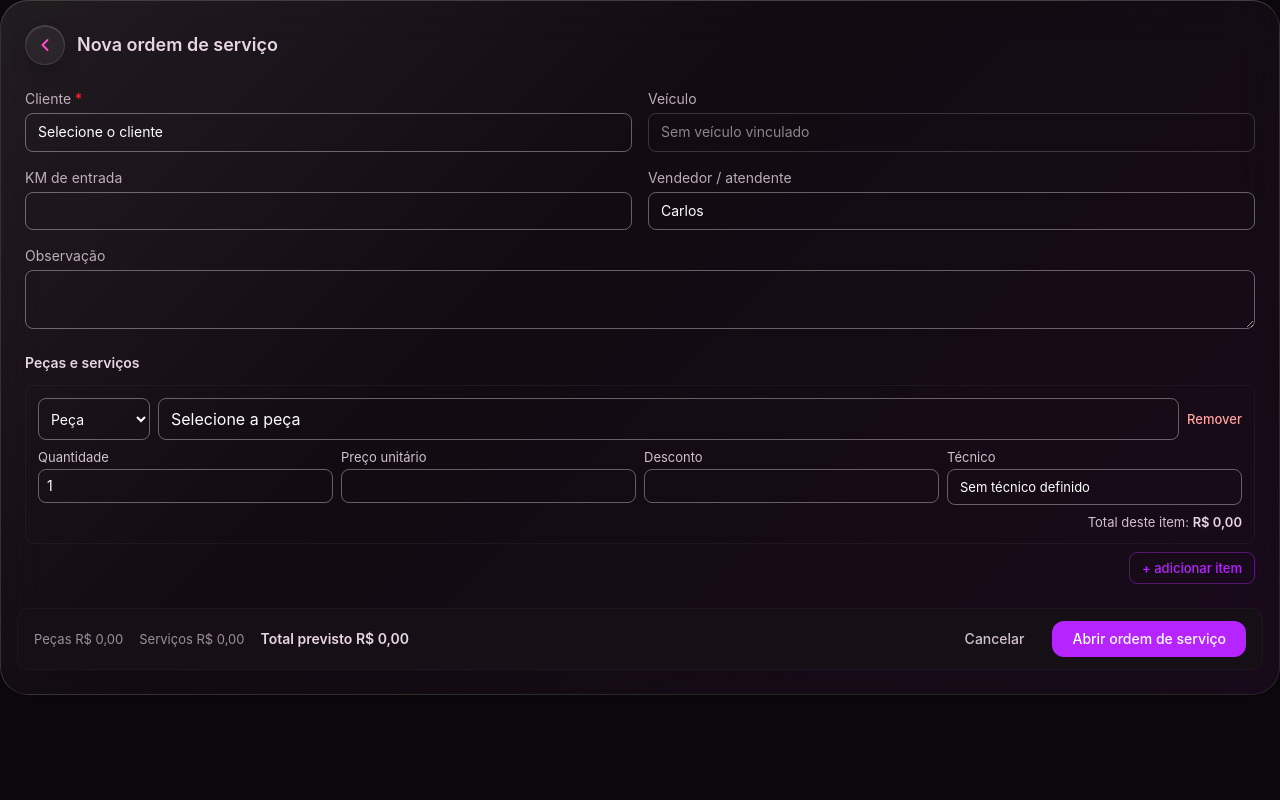
Test case: OrdemServicoForm — lançar item › trocar o tipo pra Serviço troca a lista de escolha, e o preço vem do catálogo
Select "Serviço" in the 4th dropdown at (94, 419), box [38, 398, 150, 440]
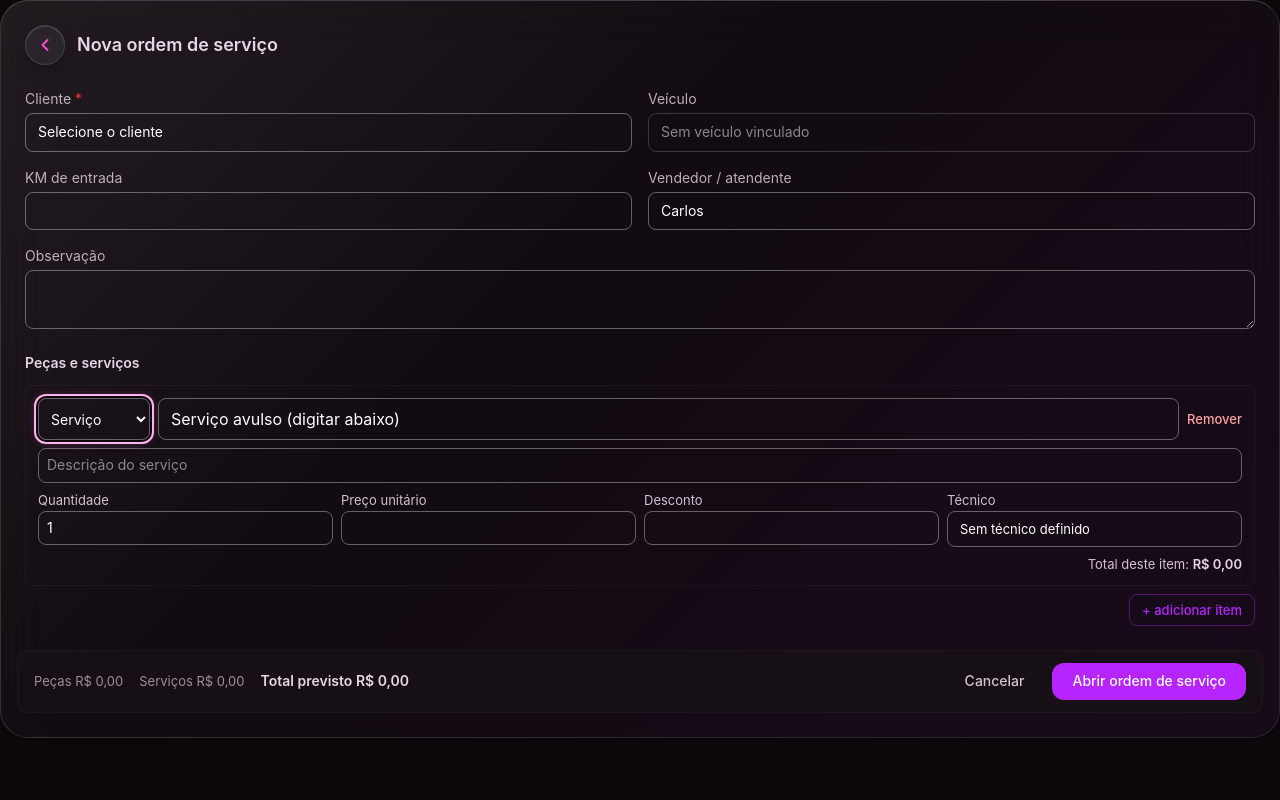
Click the 2nd dropdown showing "Serviço avulso" at (669, 419), box [158, 398, 1179, 440]
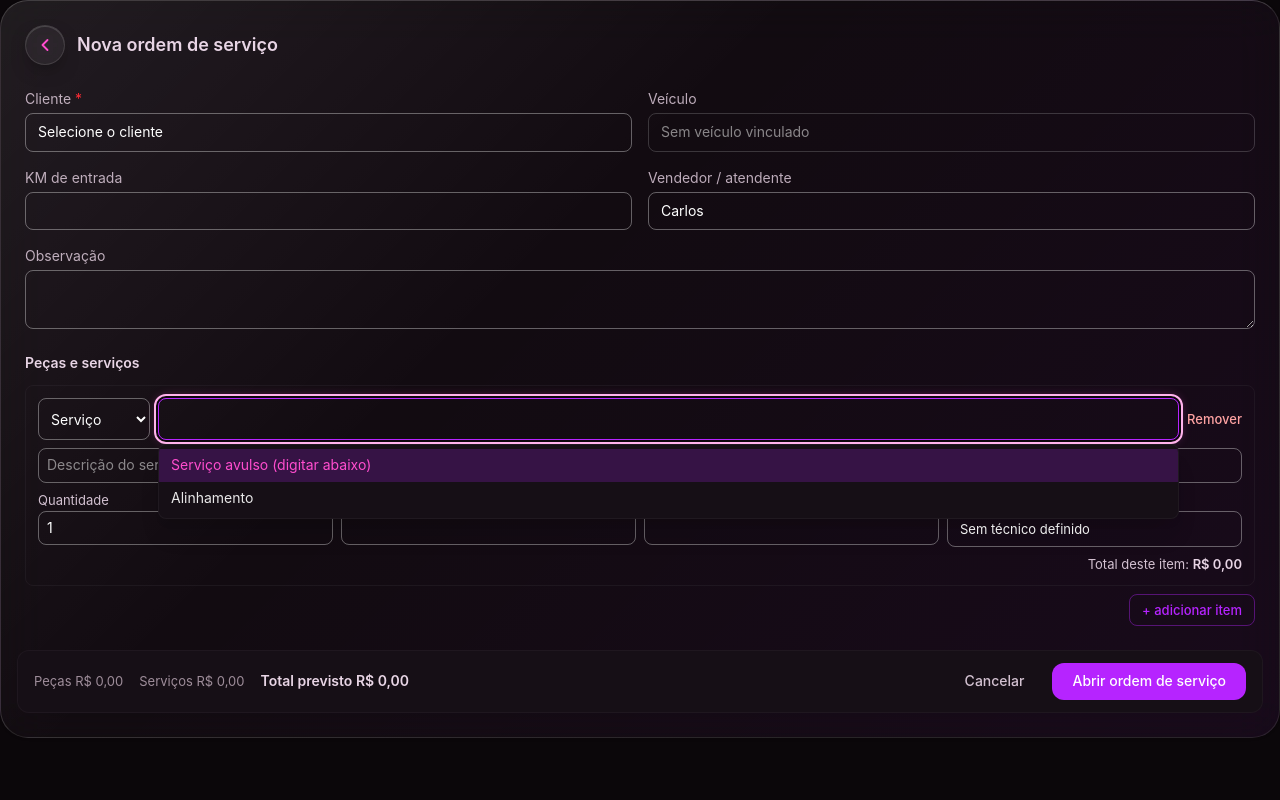
Click the button "Alinhamento" at (212, 497), box [159, 482, 1178, 514]
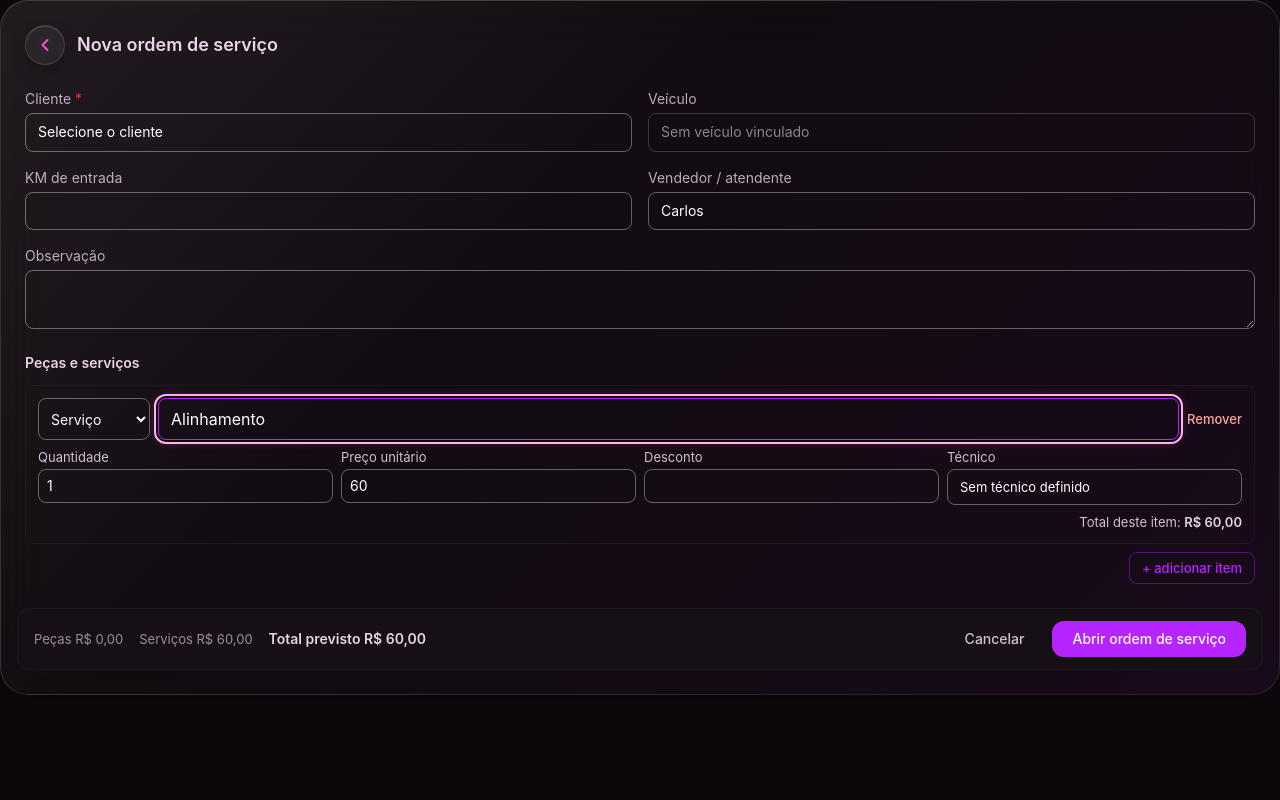
Result: the number field labelled "Preço unitário" holds "60" at [341, 469, 636, 503]
